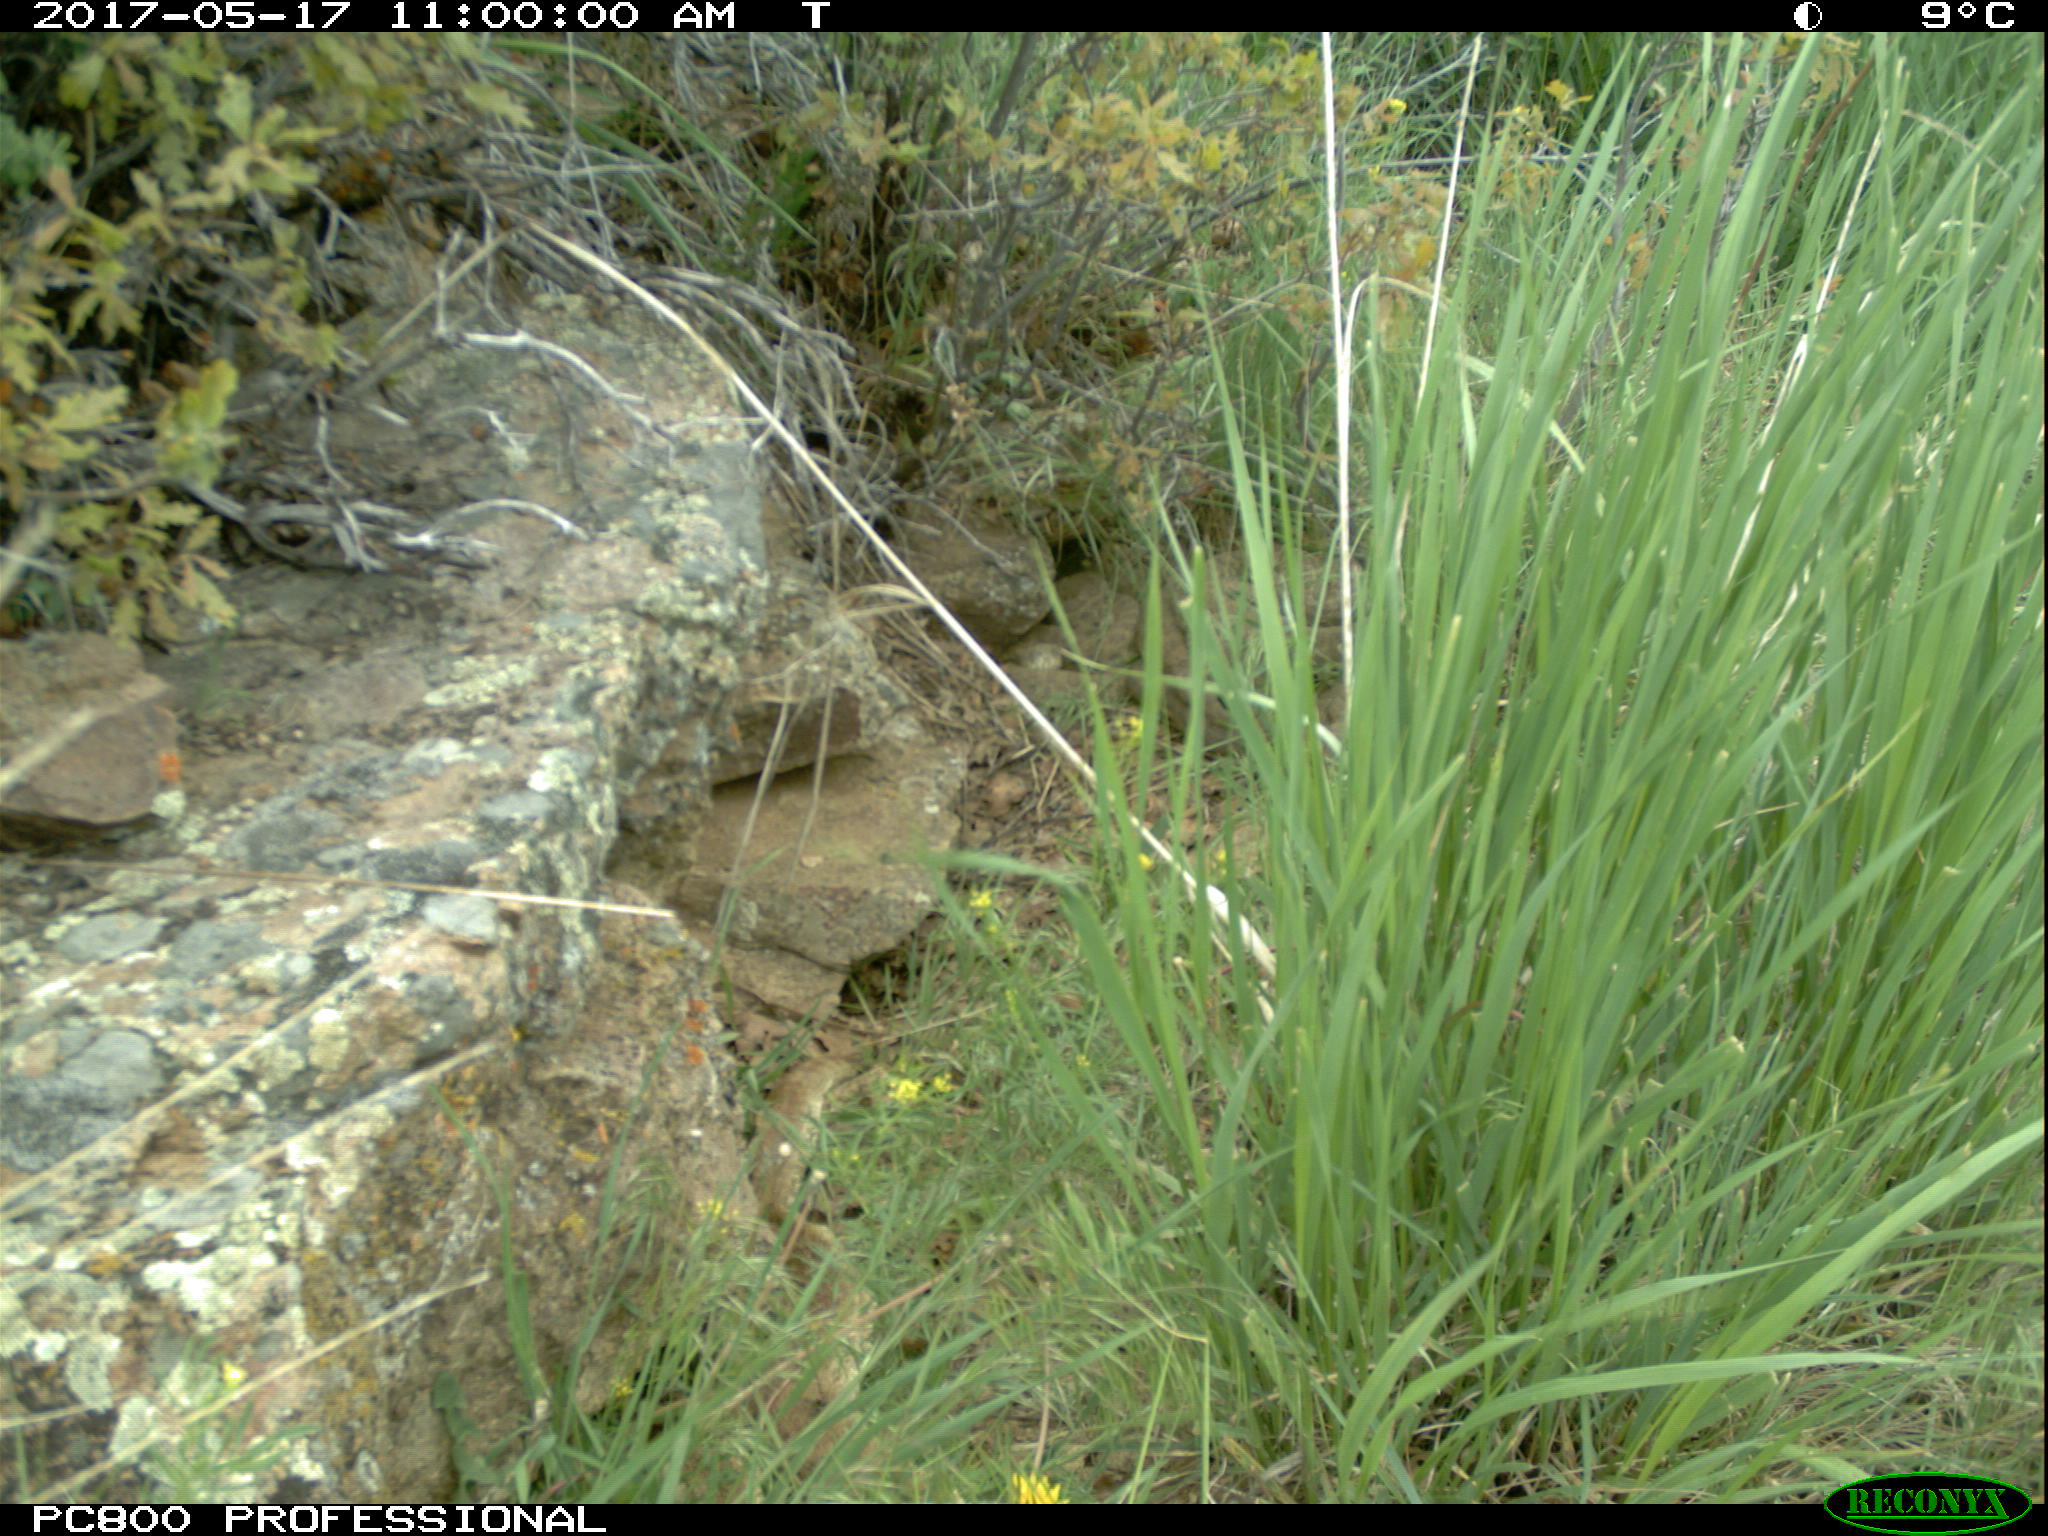snake: (756, 1054, 874, 1444), (1172, 541, 1366, 745), (1014, 574, 1140, 682)
